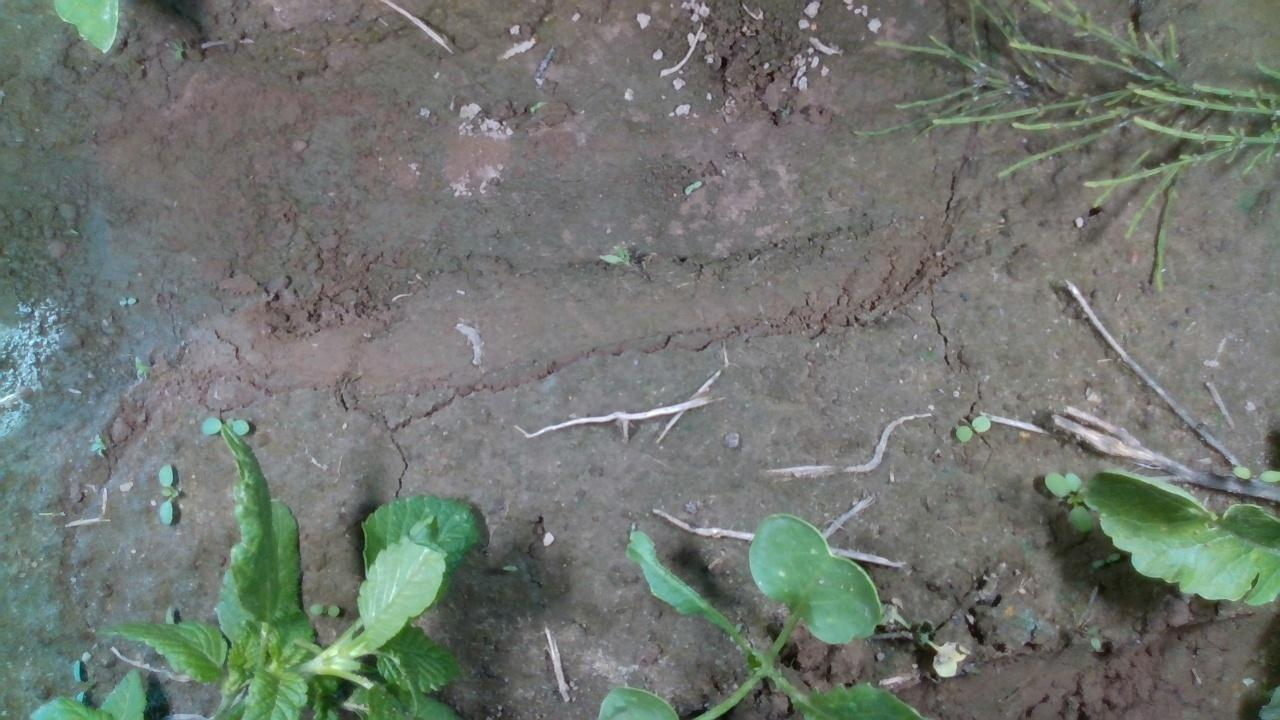weed: (154, 462, 177, 526), (954, 413, 990, 444), (307, 601, 338, 615)
